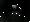person: (14, 7, 23, 16)
